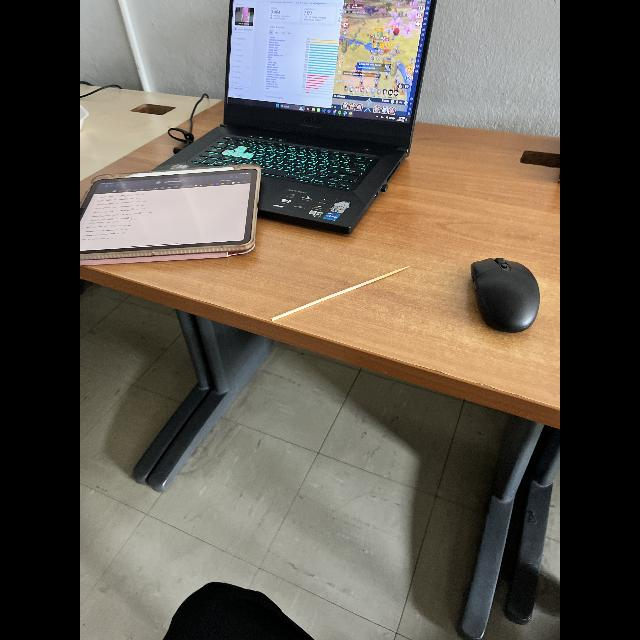stick: (255, 250, 413, 334)
